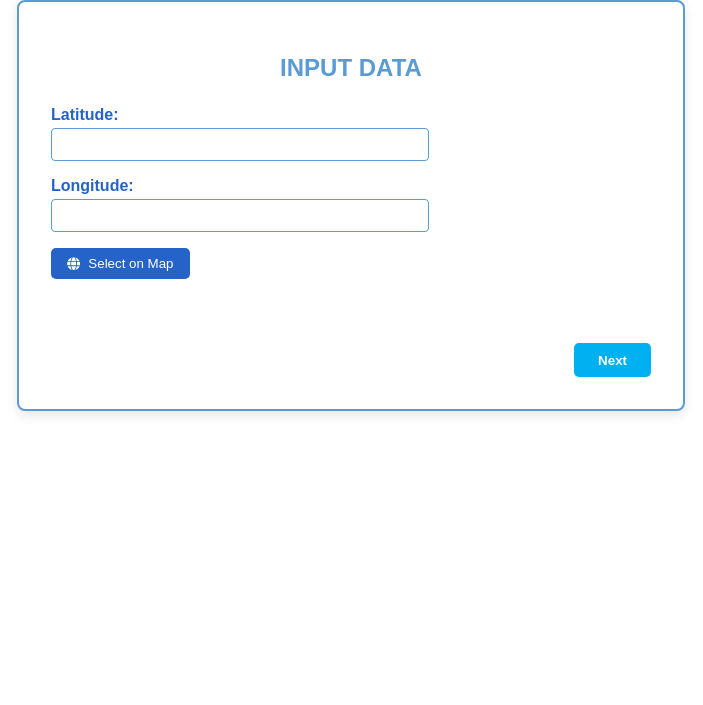
Test case: shows a visible message when the backend returns a non-binary report
Type "4.6097" into the field named "latitude" below "Latitude:".
click(240, 144); type("4.6097")  # box [51,128,429,161]
Type "-74.0817" into the field named "longitude" below "Longitude:".
click(240, 215); type("-74.0817")  # box [51,199,429,232]
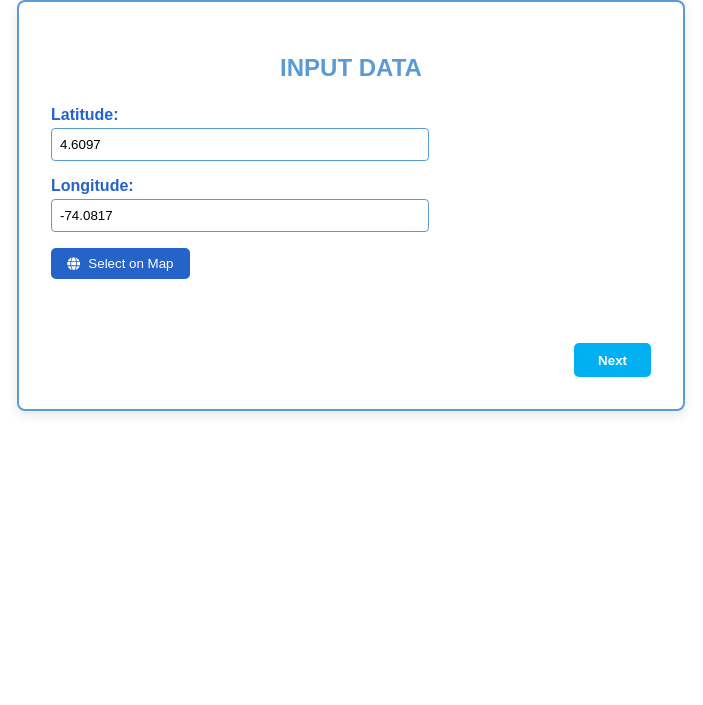
Click the button "Next".
click(613, 360)  # box [574,343,651,377]
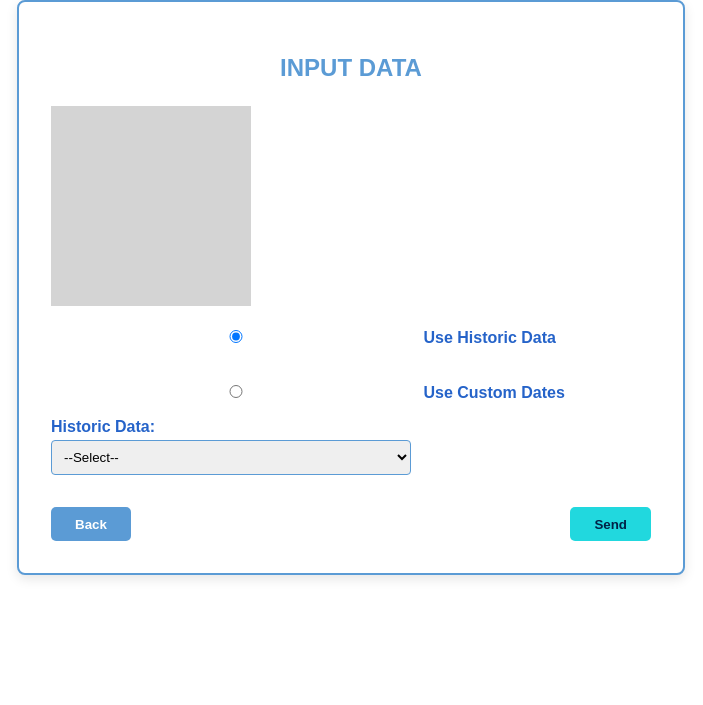
Click the radio button labelled "Use Custom Dates".
click(236, 391)  # box [56,385,416,398]
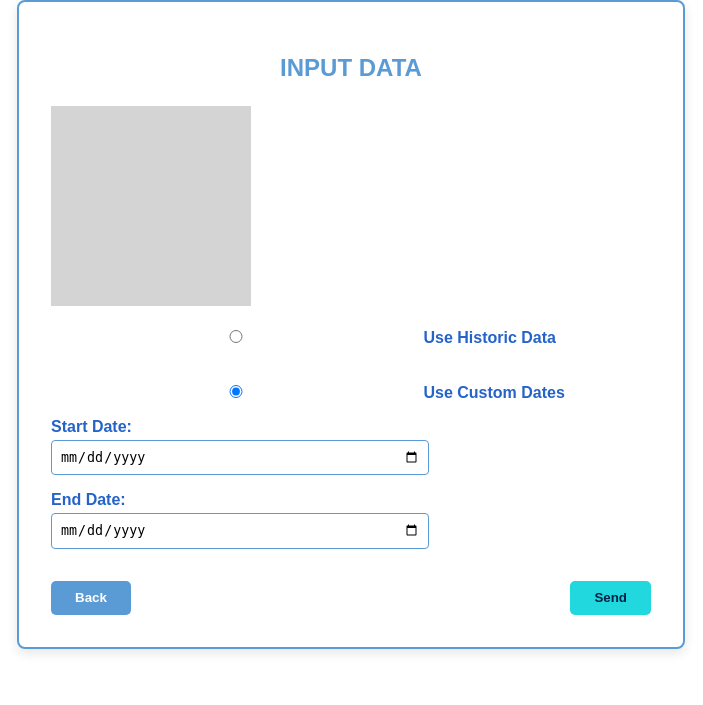
Type "2020-08-18" into the date field named "startDate" below "Start Date:".
click(240, 458); type("2020-08-18")  # box [51,440,429,475]
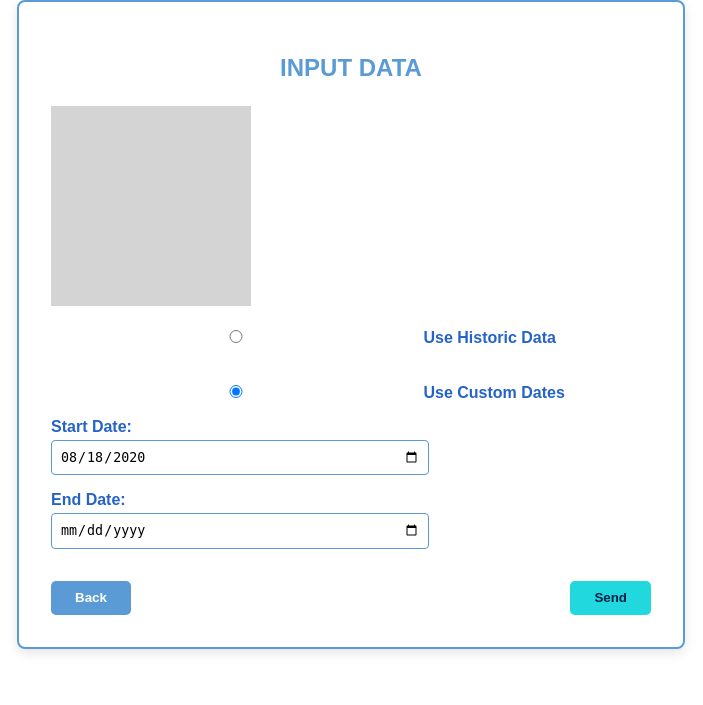
Type "2020-08-19" into the date field named "endDate" below "End Date:".
click(240, 531); type("2020-08-19")  # box [51,513,429,548]
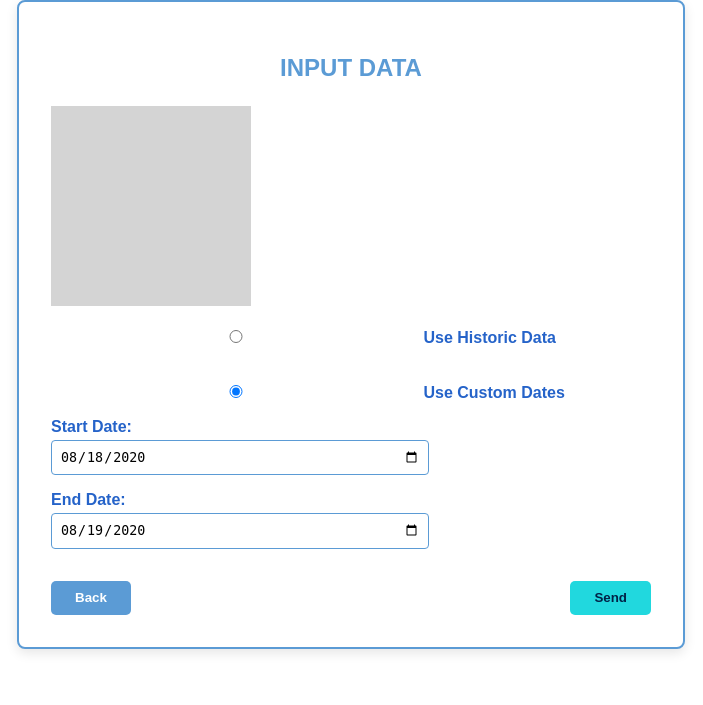
Click the button "Send".
click(611, 598)  # box [570,581,651,615]
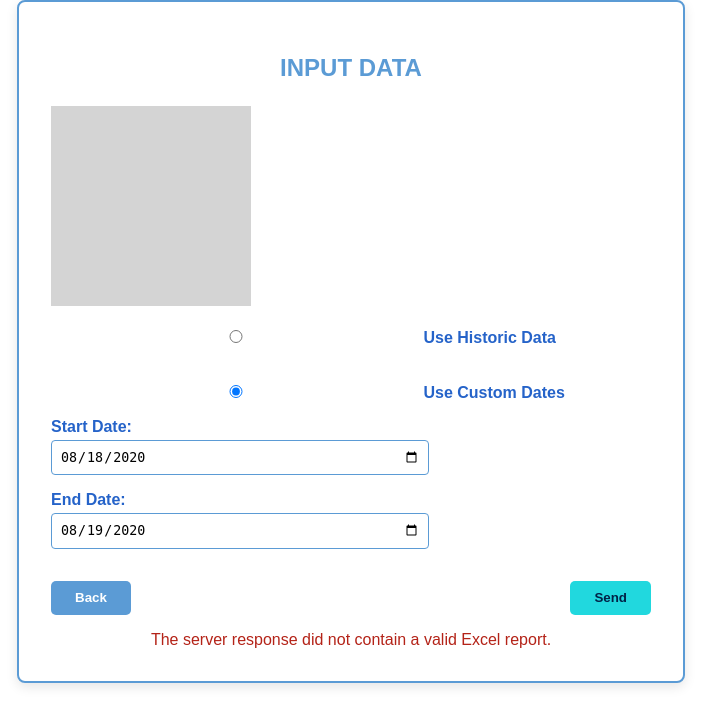
Result: the message reads "The server response did not contain a valid Excel report." at [151,631,551,648]
